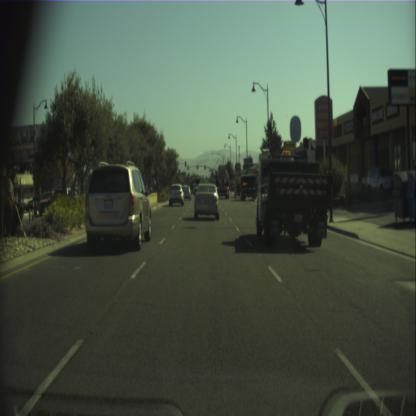Red: (186, 164, 188, 170), (196, 164, 198, 168)
off: (204, 164, 206, 170), (184, 161, 186, 166)
